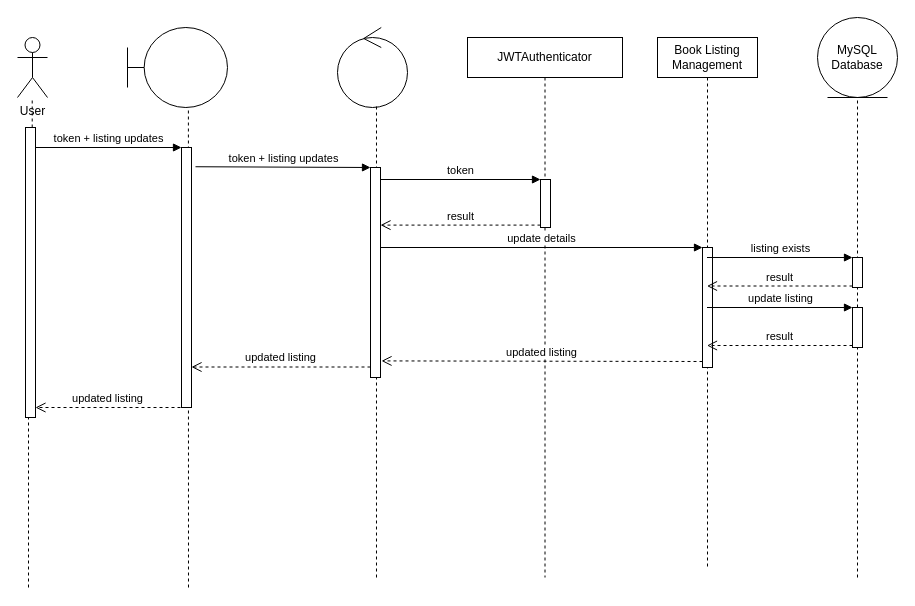
Some shapes in this 915 by 606 pixel diagram are drawn without their labels. Each missing label, with the box of its shape:
Server Controller: (336, 26, 408, 108)
User Interface: (126, 26, 228, 108)
